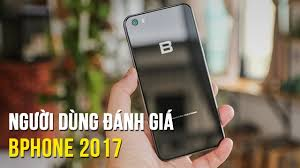bphone: (119, 2, 227, 159)
